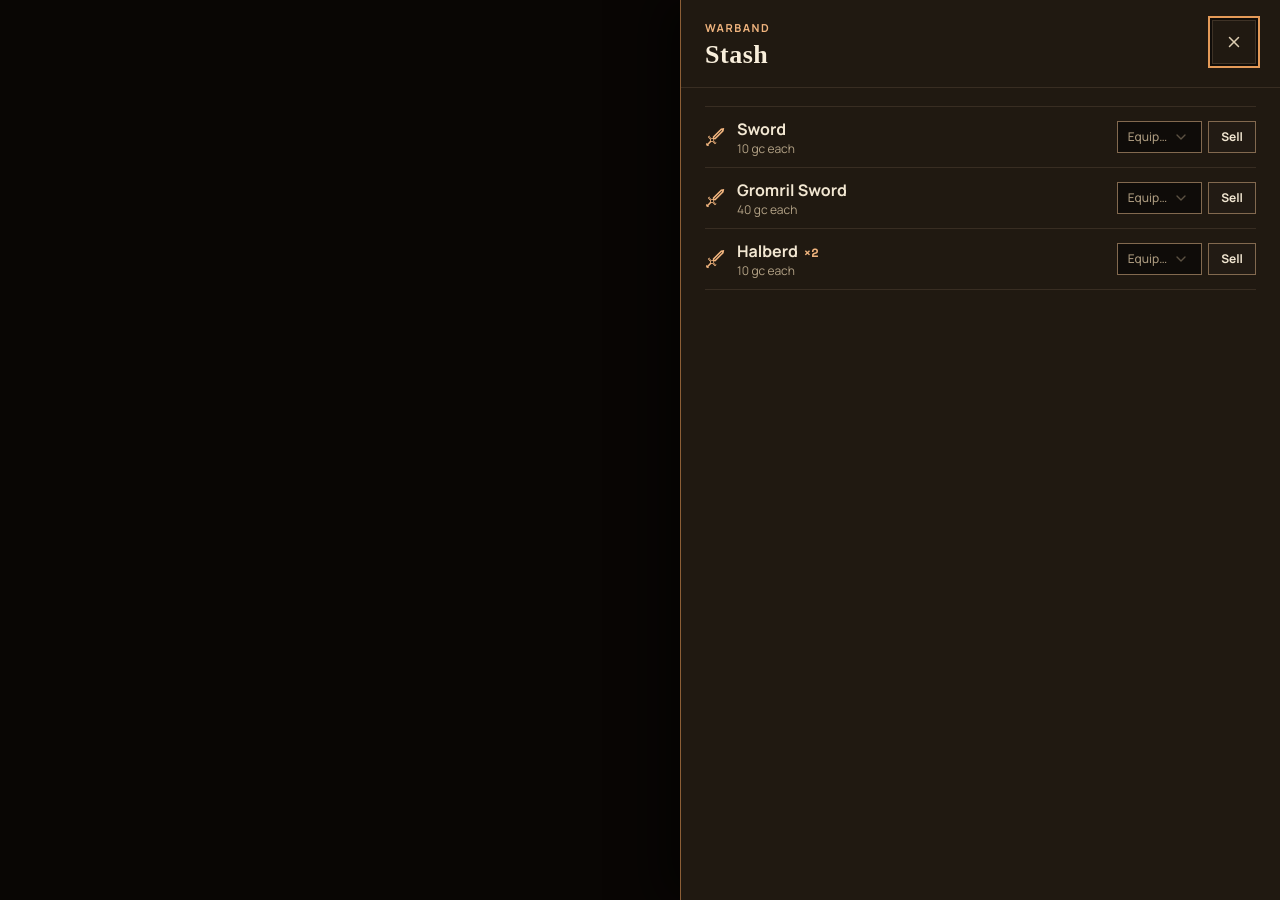
Test: StashPanel › shows a clicked item's details at the foot, switches to another and hides on a second click
The image size is (1280, 900).
Later steps or results of the test are not shown.
Click the button "Sword 10 gc each" at coordinates (762, 129), box [705, 117, 1105, 157]
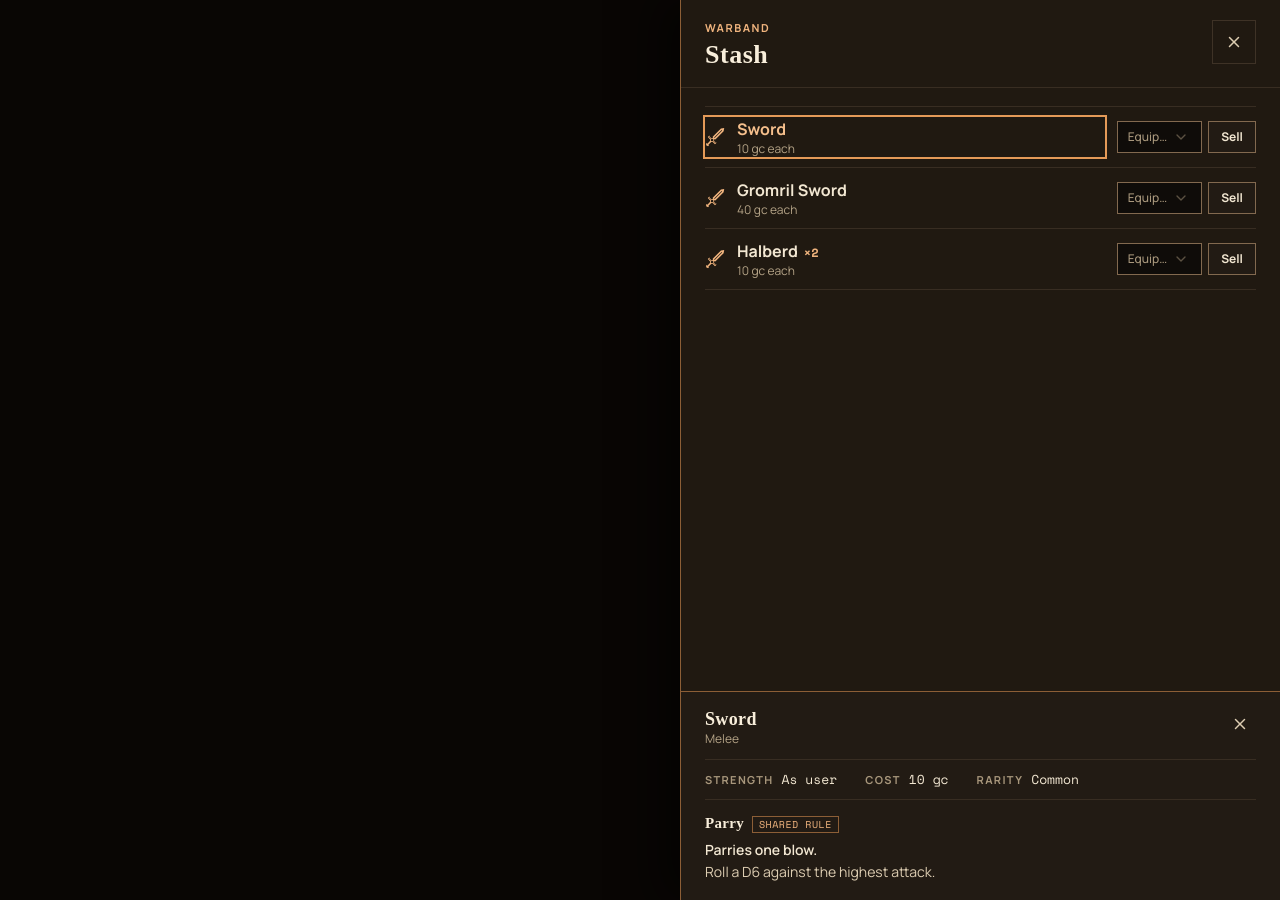
Expected: the text "As user" is shown, [782, 770, 837, 789]
Expected: the text "10 gc" is shown, [909, 770, 949, 789]
Expected: the text "Common" is shown, [1031, 770, 1079, 789]
Click the button "Halberd×2 10 gc each" at coordinates (767, 251), box [705, 239, 1105, 279]
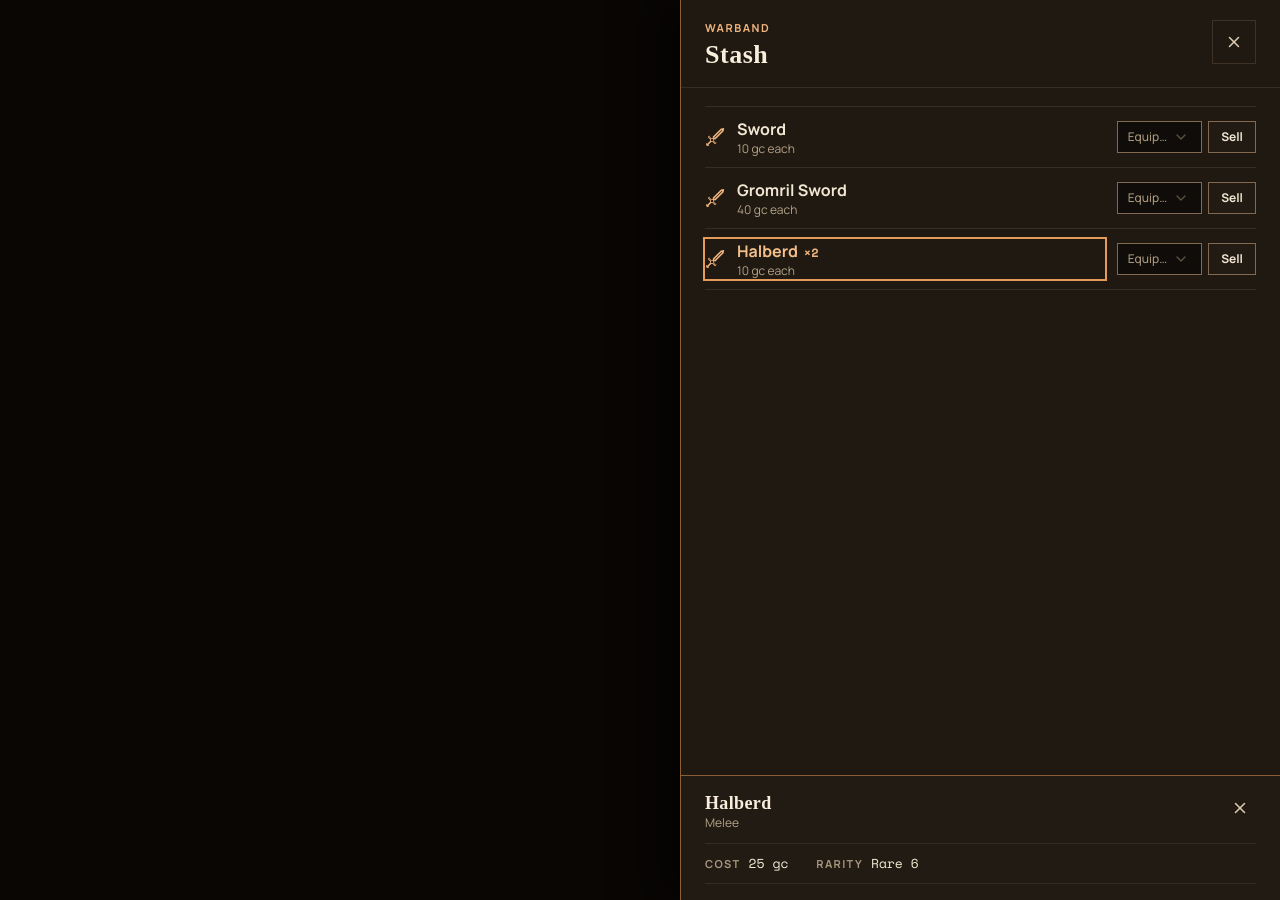
Expected: the text "25 gc" is shown, [749, 854, 788, 873]
Expected: the text "Rare 6" is shown, [871, 854, 919, 873]
